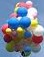Balloon: (20, 16, 31, 28), (8, 18, 19, 28), (16, 7, 27, 17), (34, 25, 44, 36), (27, 7, 37, 16), (3, 34, 11, 42), (24, 31, 31, 38), (5, 28, 11, 34)
